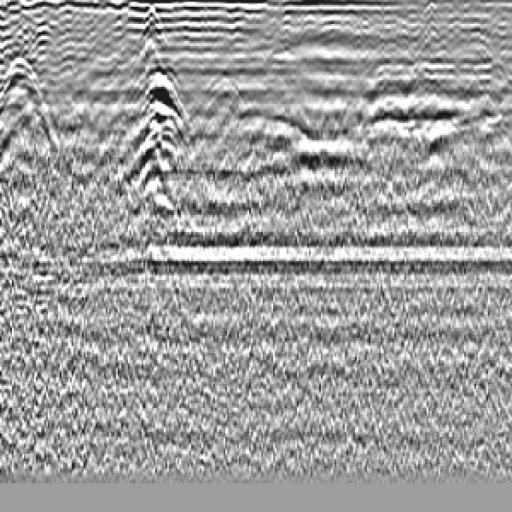metalic: (121, 15, 210, 250)
nonmetalic: (218, 88, 355, 210), (1, 20, 66, 158)
